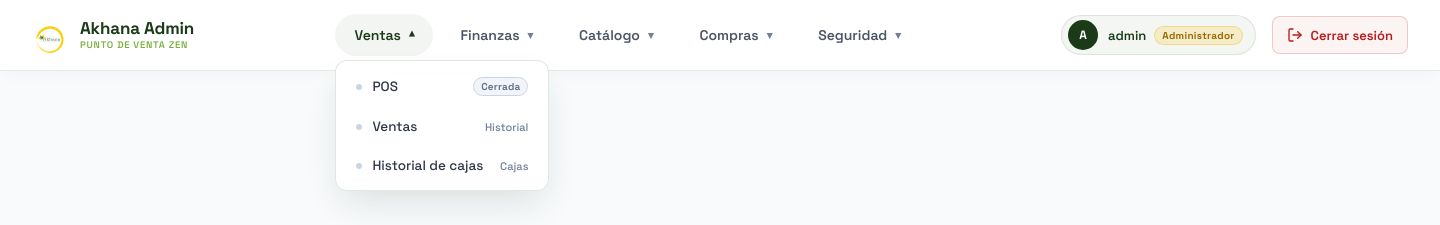
Test: NavbarComponent › debe cerrar el menú automáticamente al hacer clic en una opción (closeAllMenus)
Click the menu item with class "dropdown-item" showing "POS Cerrada".
click(501, 86)  # box [356,77,528,96]
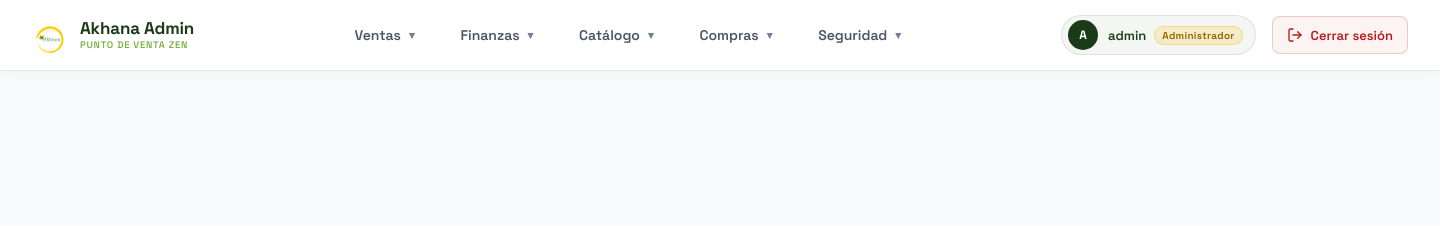
Now the menu with class "dropdown-menu" is gone
